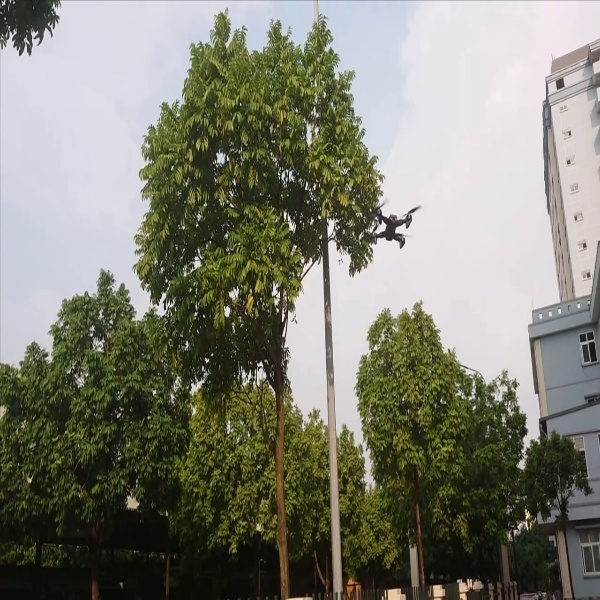drone: (362, 192, 419, 254)
